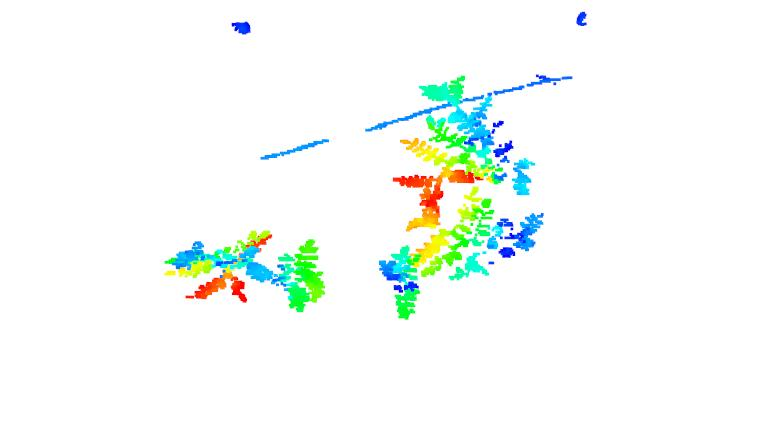chickpea: (382, 102, 538, 230), (421, 189, 545, 284), (164, 224, 274, 304), (272, 230, 330, 316), (368, 248, 431, 325), (403, 75, 474, 112)
